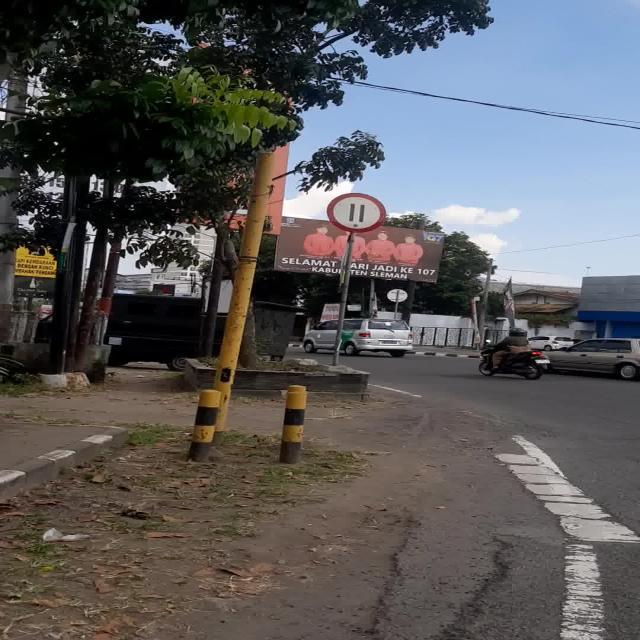Larangan Muatan - 10 ton: (326, 192, 386, 232)
